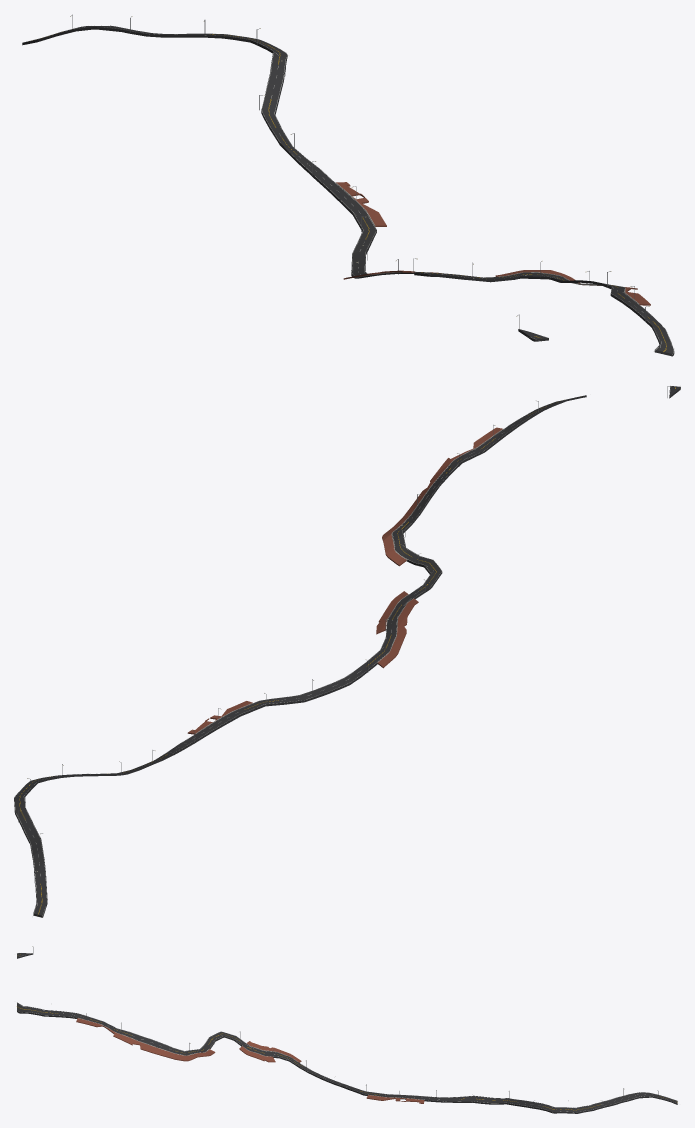
File: 16-54731-29719.4c76aed2.glb
3 renders of one model, top to bottom at view 1: azimuth 30°, elevation 25°; view 2: azimuth 150°, elevation 25°; view 3: azimuth 270°, elevation 25°, orthographic. The views are drawn at different scales.
Size of the model in its own units: 149 by 116 by 589.
